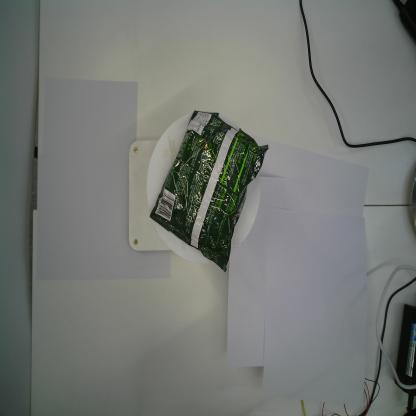Instant Noodles: (148, 108, 269, 276)
